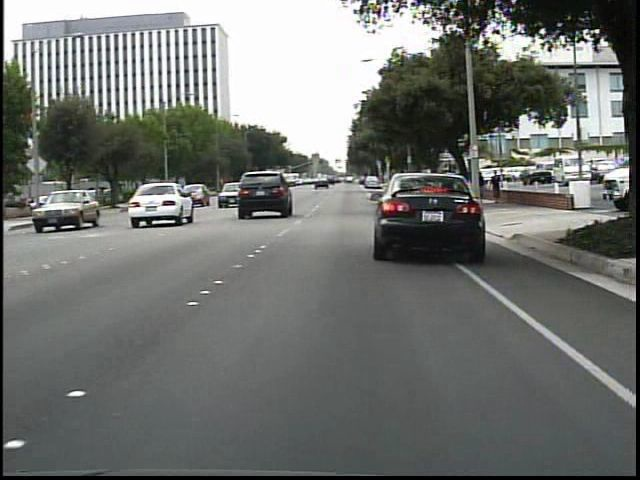person: (488, 169, 504, 206), (474, 170, 488, 202)
